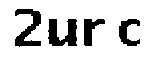2: (12, 7, 45, 47)
c: (116, 16, 145, 51)
r: (81, 11, 108, 49)
u: (45, 15, 79, 48)
